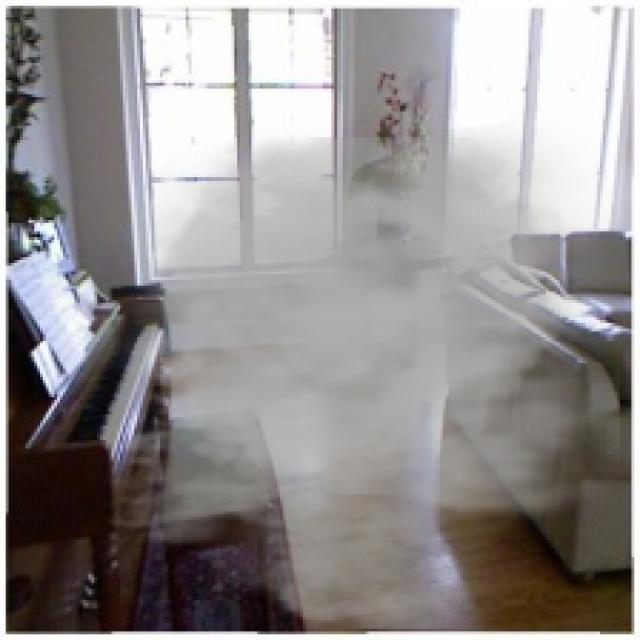smoke: (54, 106, 620, 628)
